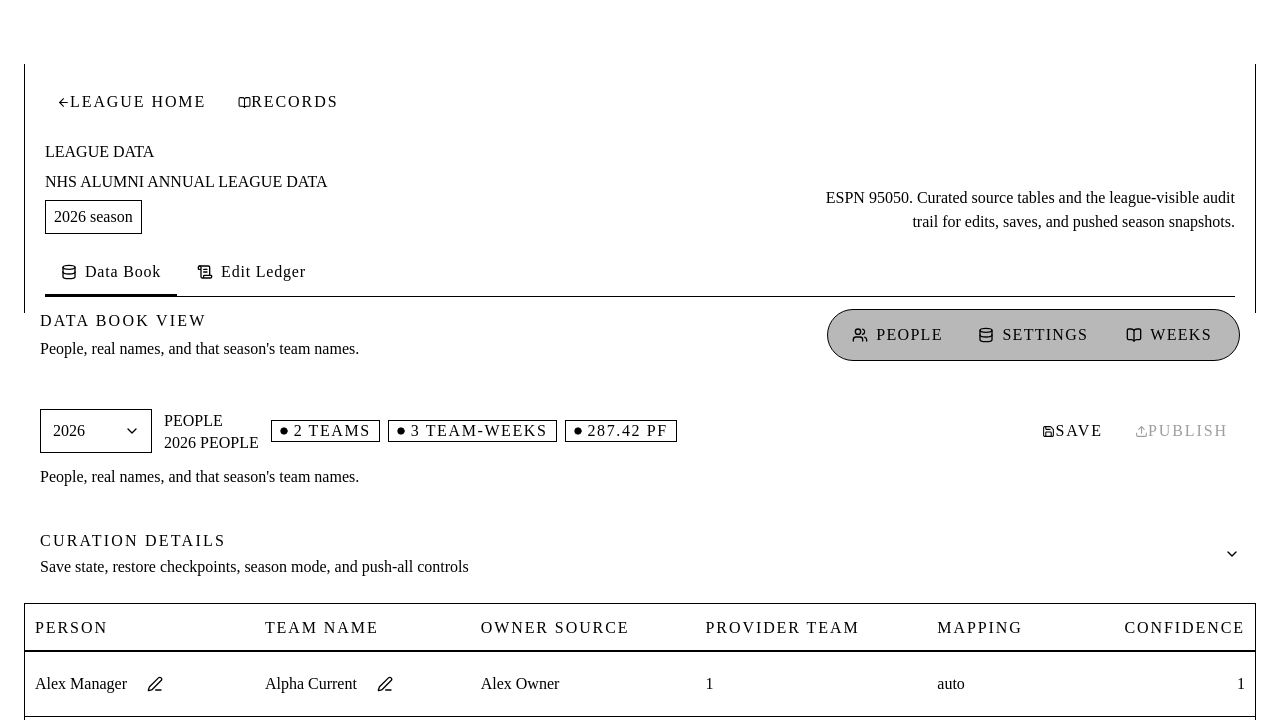
real-name edits default to all years and render as draft changes
The width and height of the screenshot is (1280, 720).
Click the button named "Edit real name for Alex Manager" at (155, 684), box [133,662,177,706]
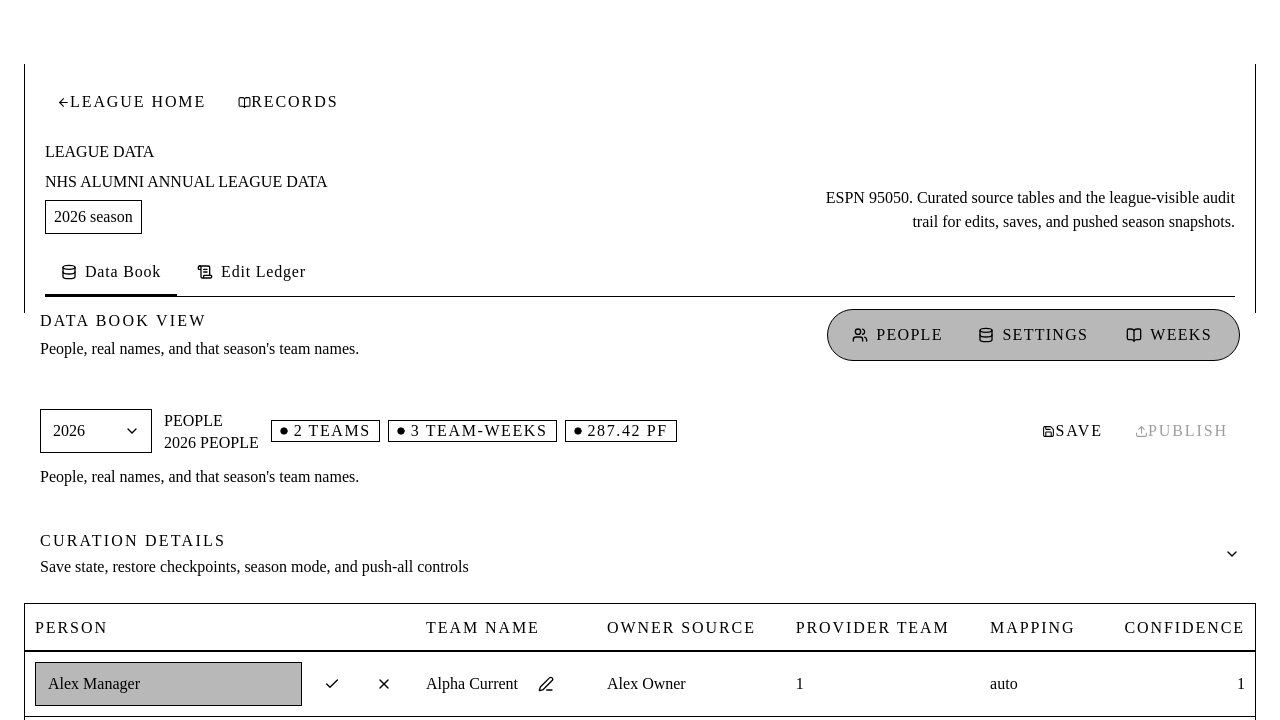
Replace the text in the field named "real name for Alex Manager" with "Alex Canon" at (169, 684), box [35,662,302,706]
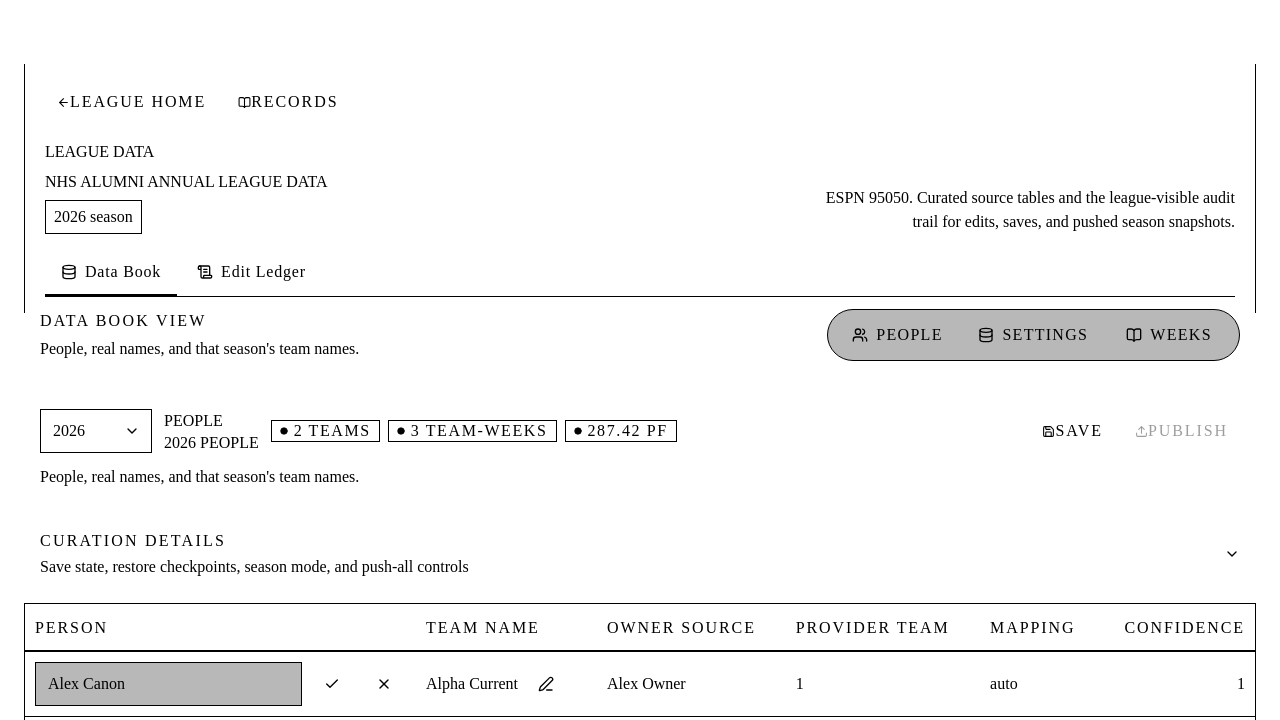
Click the button named "Confirm real name for Alex Manager" at (332, 684), box [310,662,354,706]
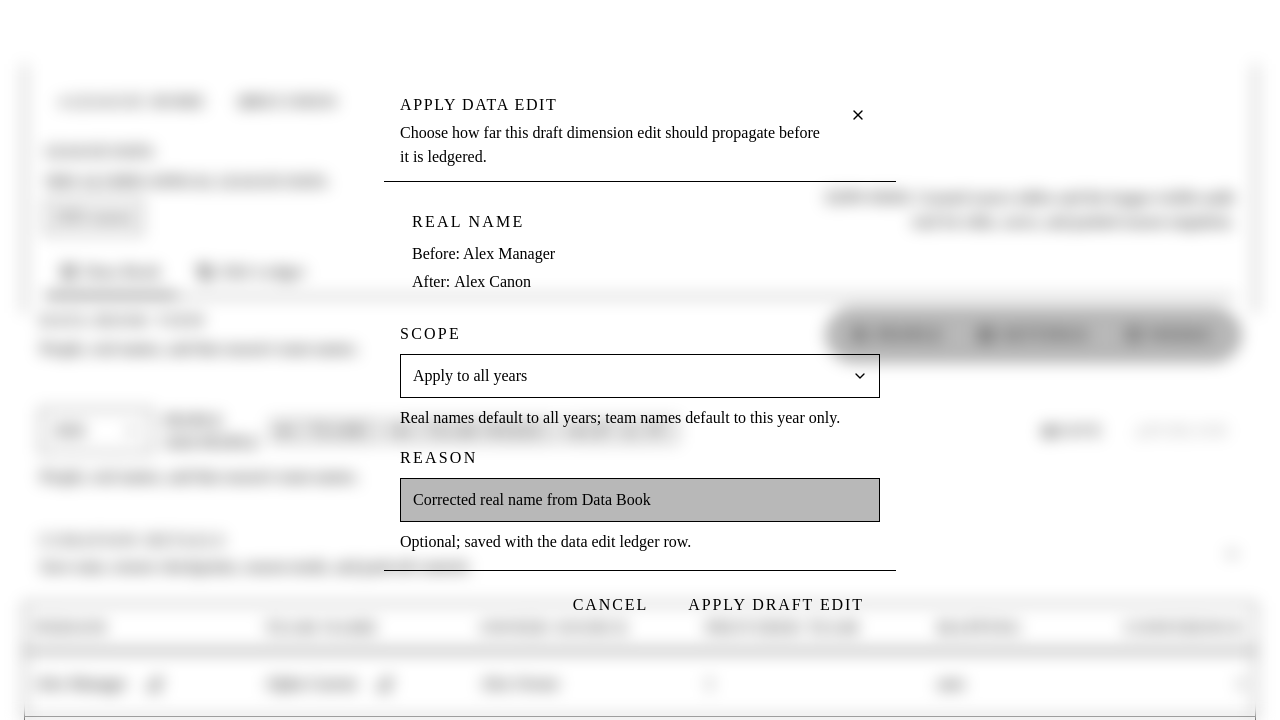
Result: the dropdown labelled "Scope" shows "Apply to all years" at [400,354,880,398]
Click the button "Apply draft edit" at (776, 605), box [672,583,880,627]
(page scrolled)
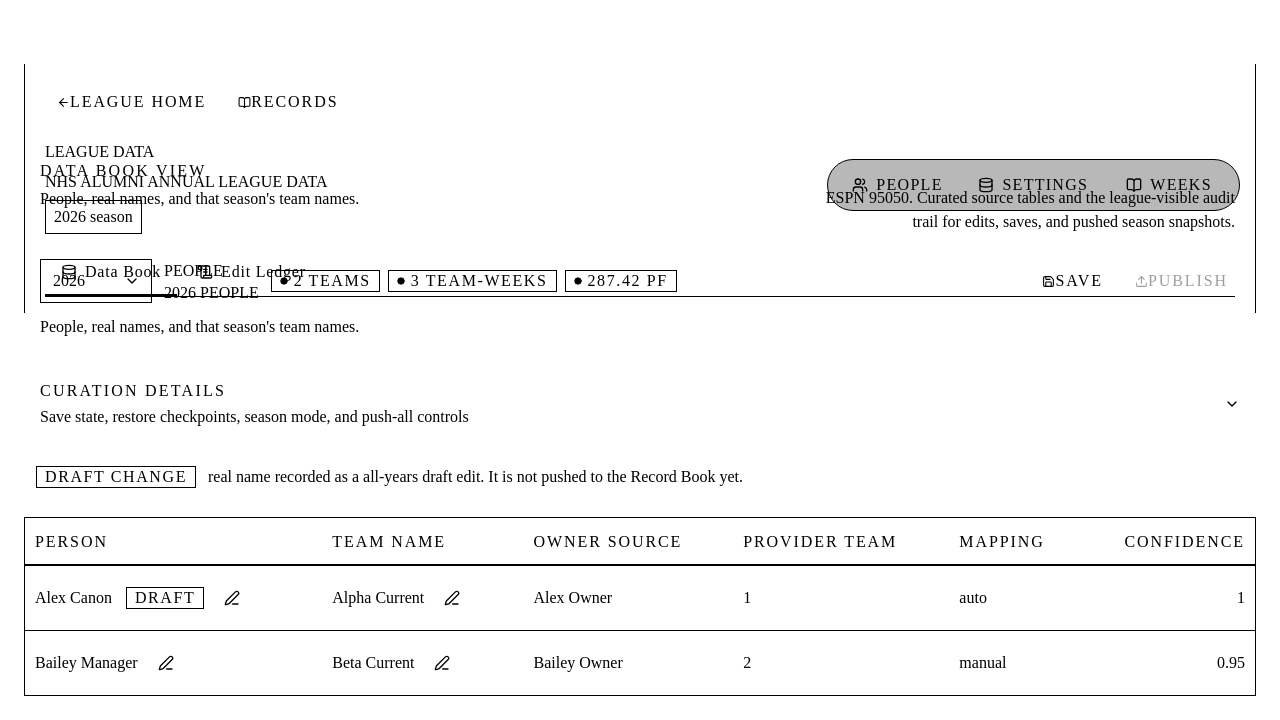
Result: the text "Alex Canon" is shown at [35,586,112,610]
Result: the text "Draft change" is shown at [45,469,187,485]
Result: the text "Draft" is shown at [135,590,195,606]
